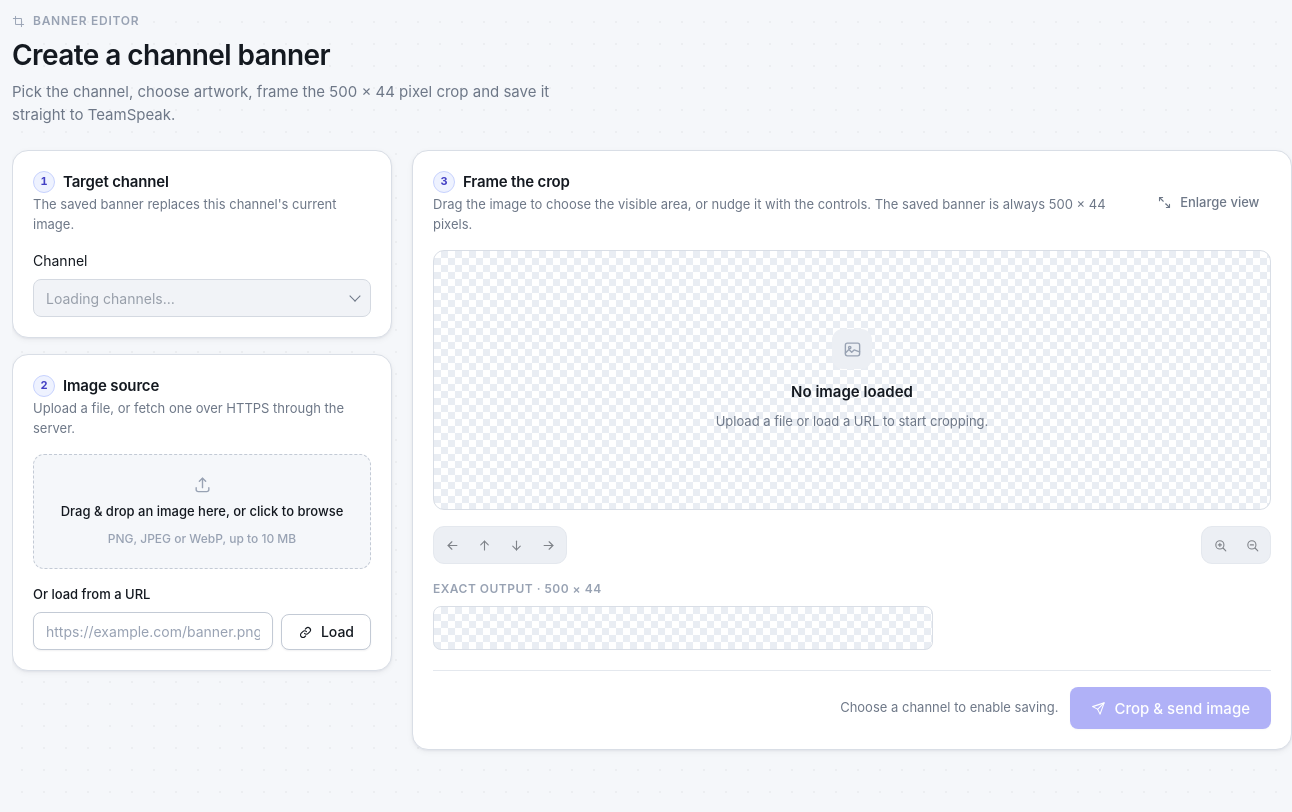
Scenario: banner export workflow › associates a server URL validation error after unlocking and retains network failures globally
Type "https://example.test/image.png" into the field with id "imageUrl" at (153, 631), box [33, 612, 273, 650]
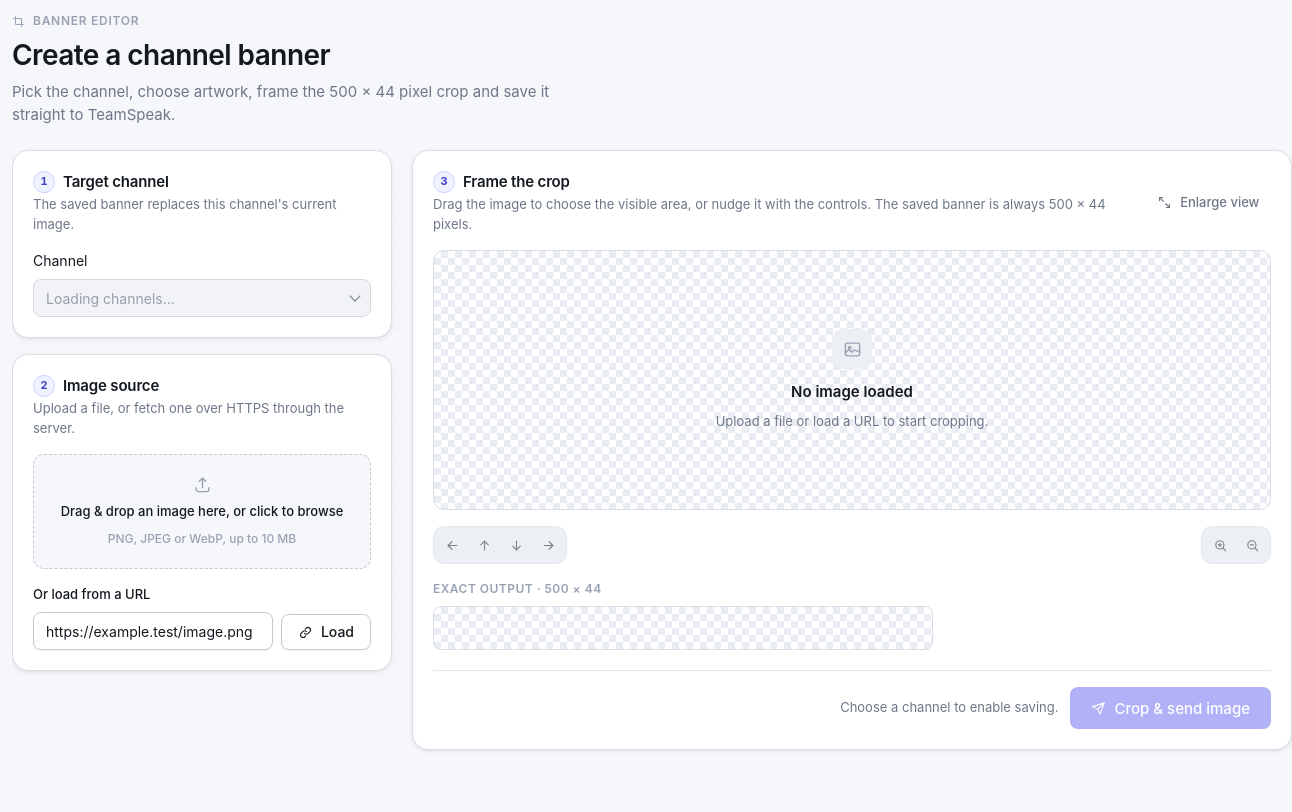
Click the button "Load" at (326, 632), box [281, 614, 371, 650]
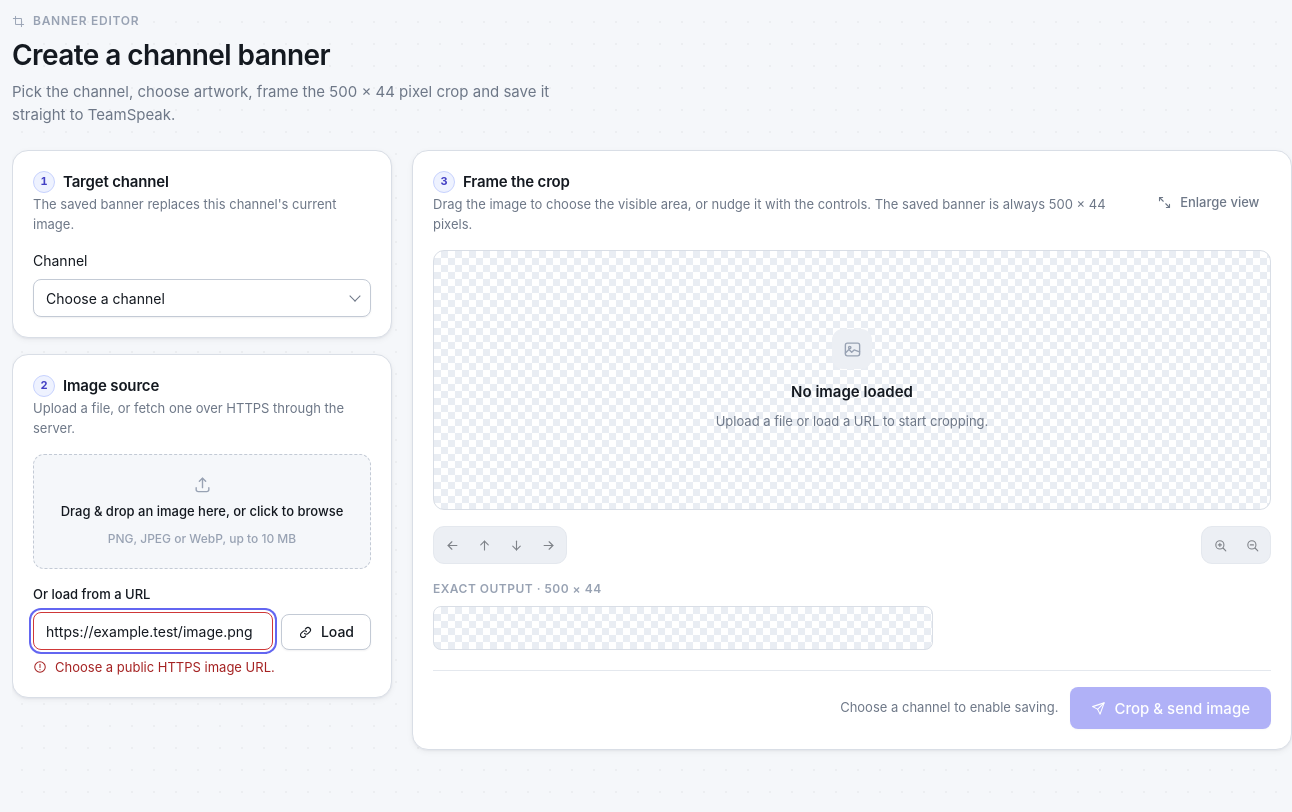
Click the button "Load" at (326, 632), box [281, 614, 371, 650]
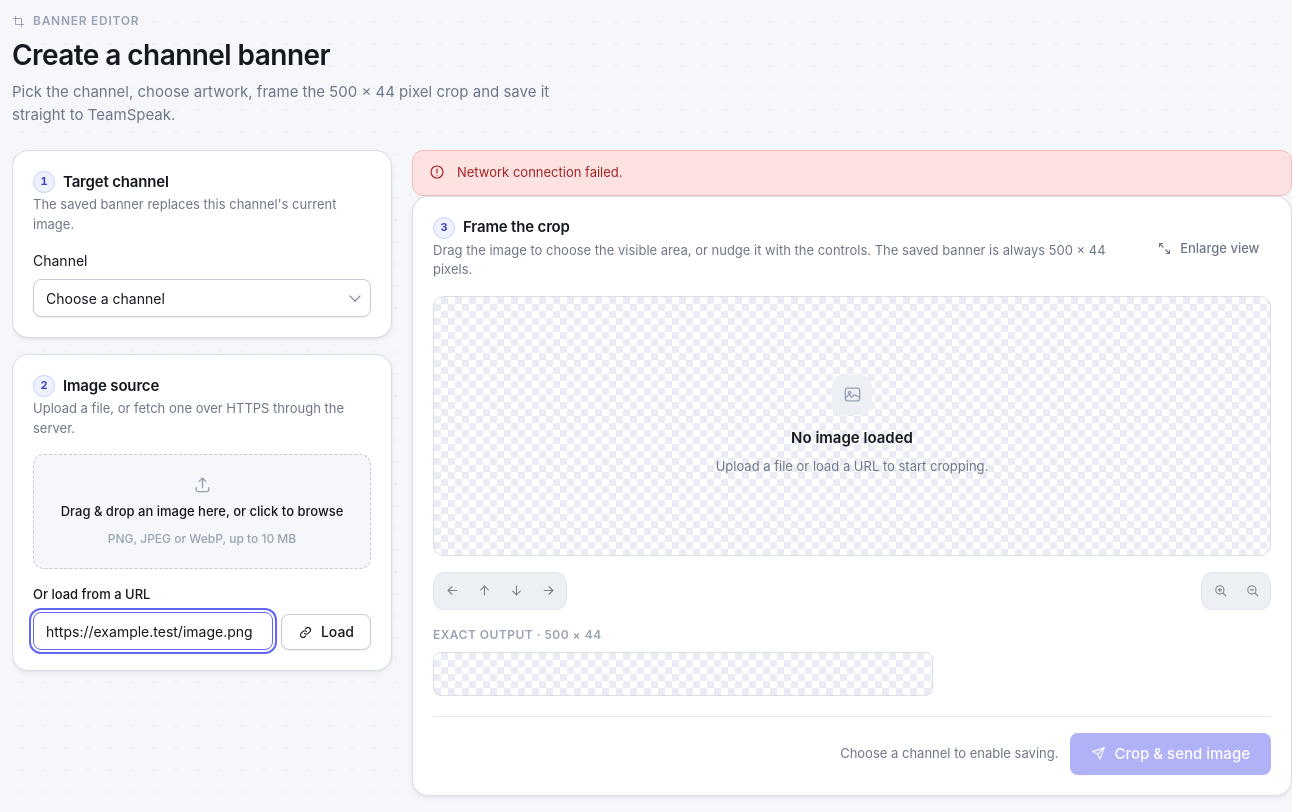
Check: the message reads "Network connection failed.", box [457, 164, 622, 180]
